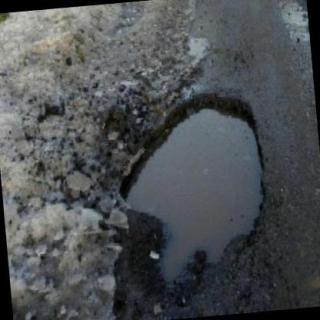pothole: (121, 97, 265, 284)
